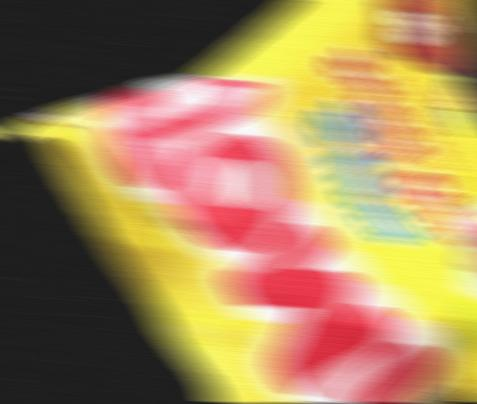Tomi: (1, 0, 476, 404)
ketchup UFC: (462, 85, 477, 404)
